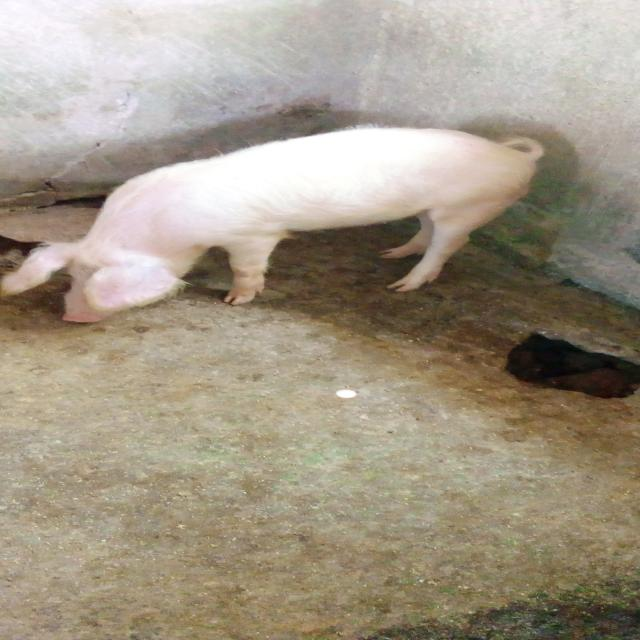pig: (0, 93, 579, 354)
